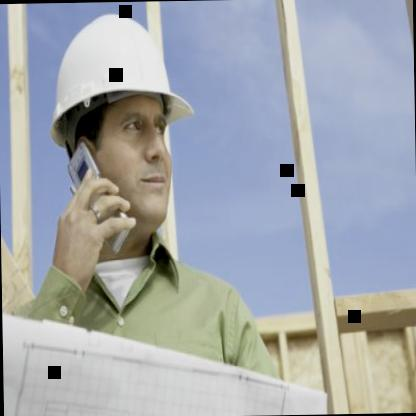helmet: (38, 0, 205, 265)
